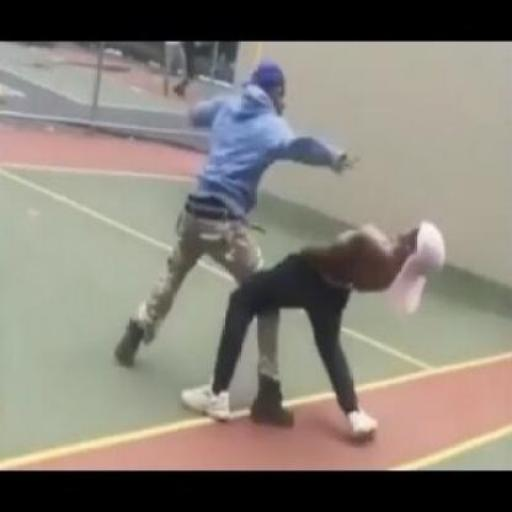Fighting: (118, 64, 446, 444)
